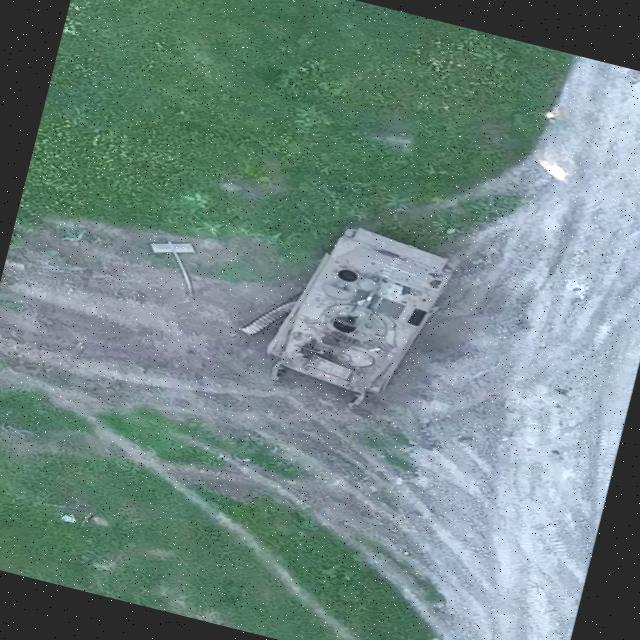AIFV: (258, 206, 466, 412)
